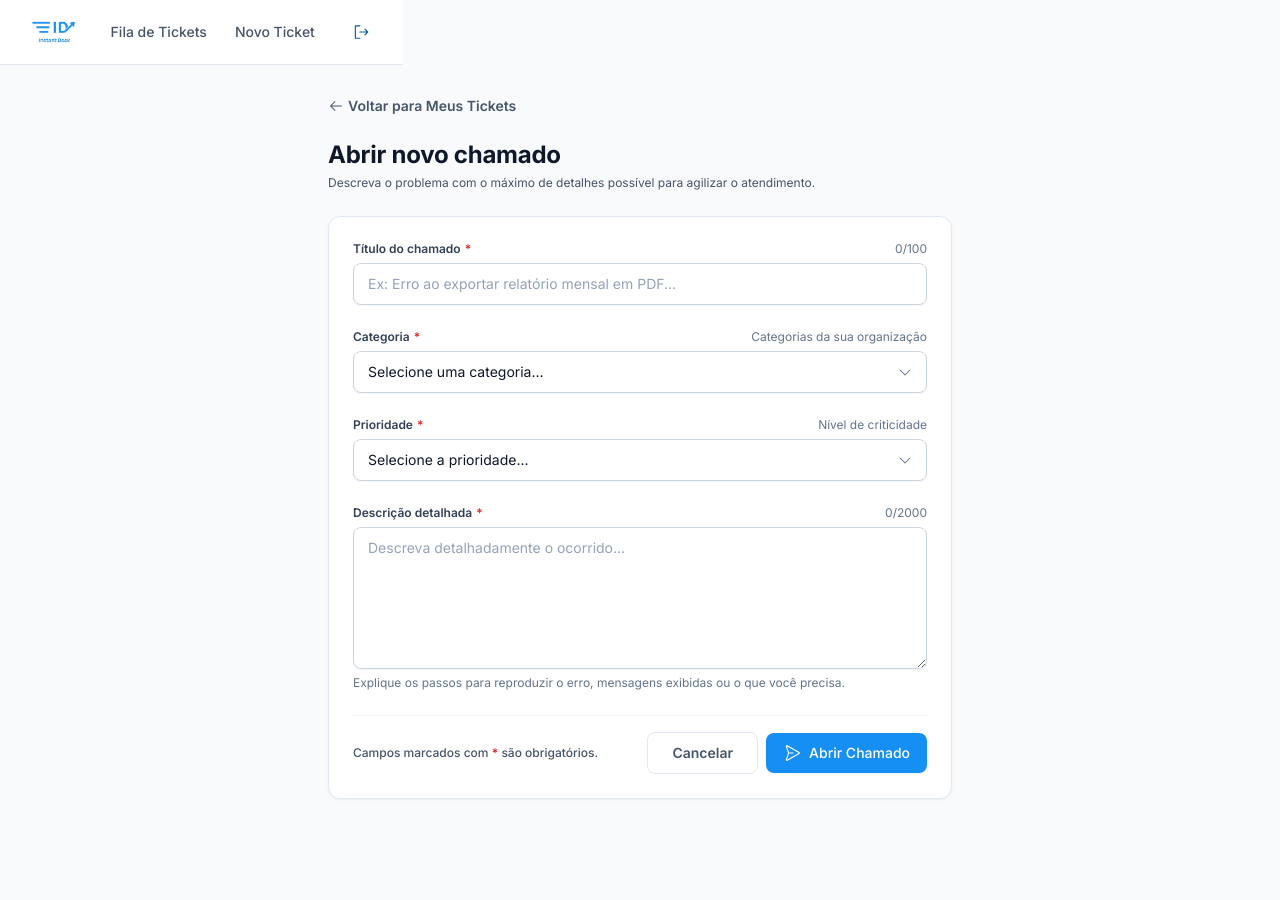
Test: NewTicket catalog states › does not submit category or priority IDs absent from the loaded lists
The width and height of the screenshot is (1280, 900).
Type "Não consigo acessar" into the field labelled "Título do chamado*" at (640, 284), box 353,263 -> 927,305
Select "Acesso" in the dropdown labelled "Categoria" at (640, 372), box 353,351 -> 927,393
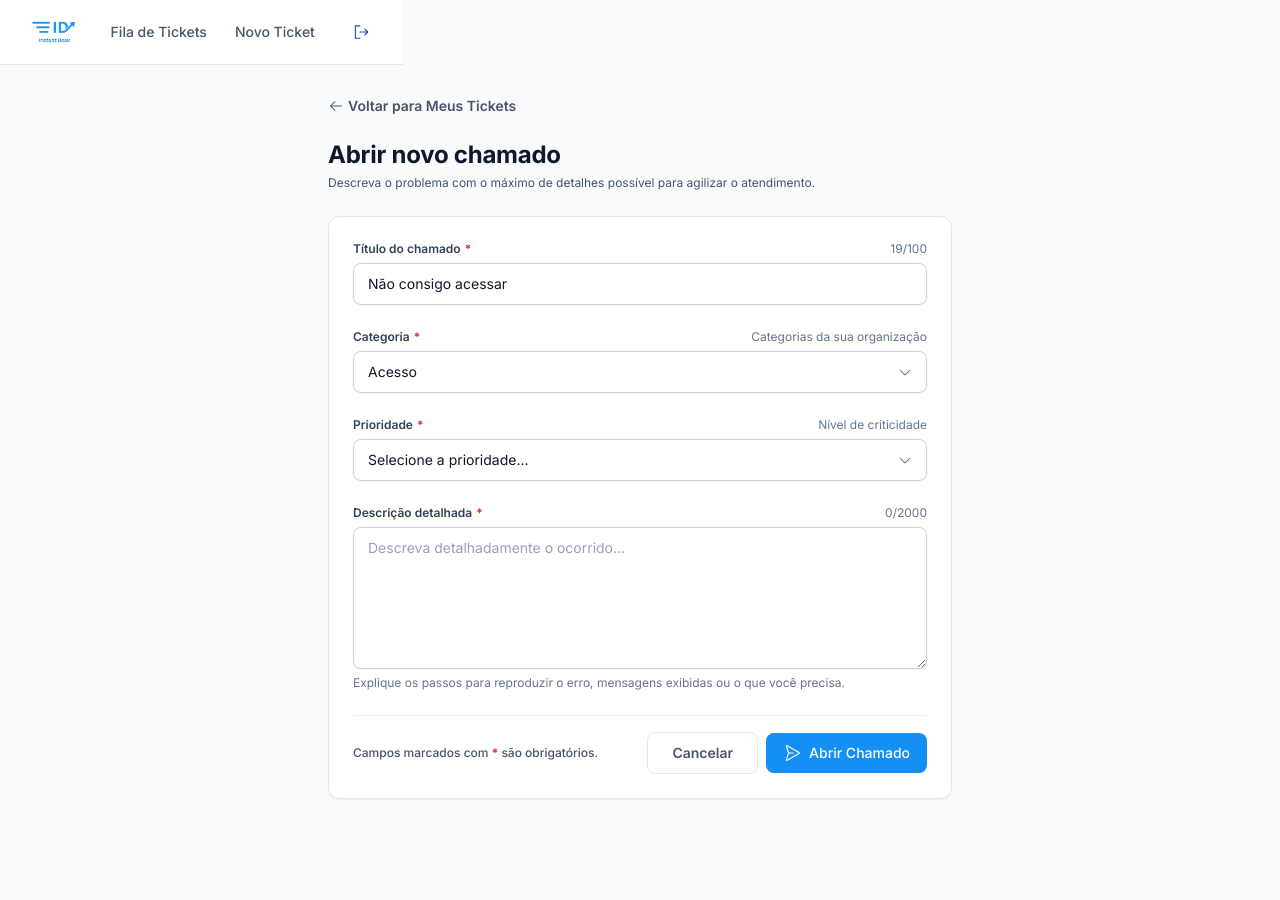
Select "Alta" in the dropdown labelled "Prioridade" at (640, 460), box 353,439 -> 927,481
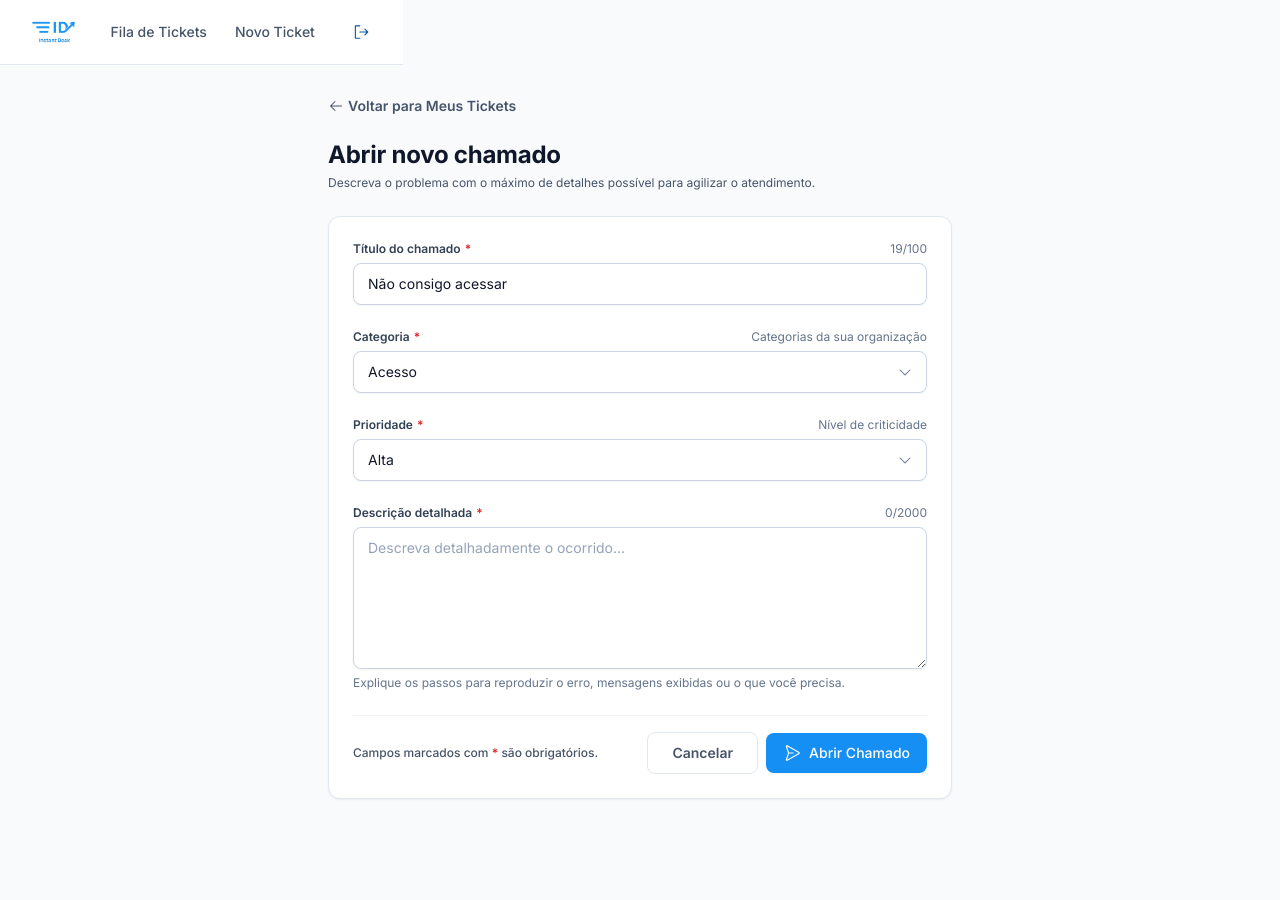
Type "O acesso ao sistema falha desde hoje." into the text box labelled "Descrição detalhada*" at (640, 598), box 353,527 -> 927,669
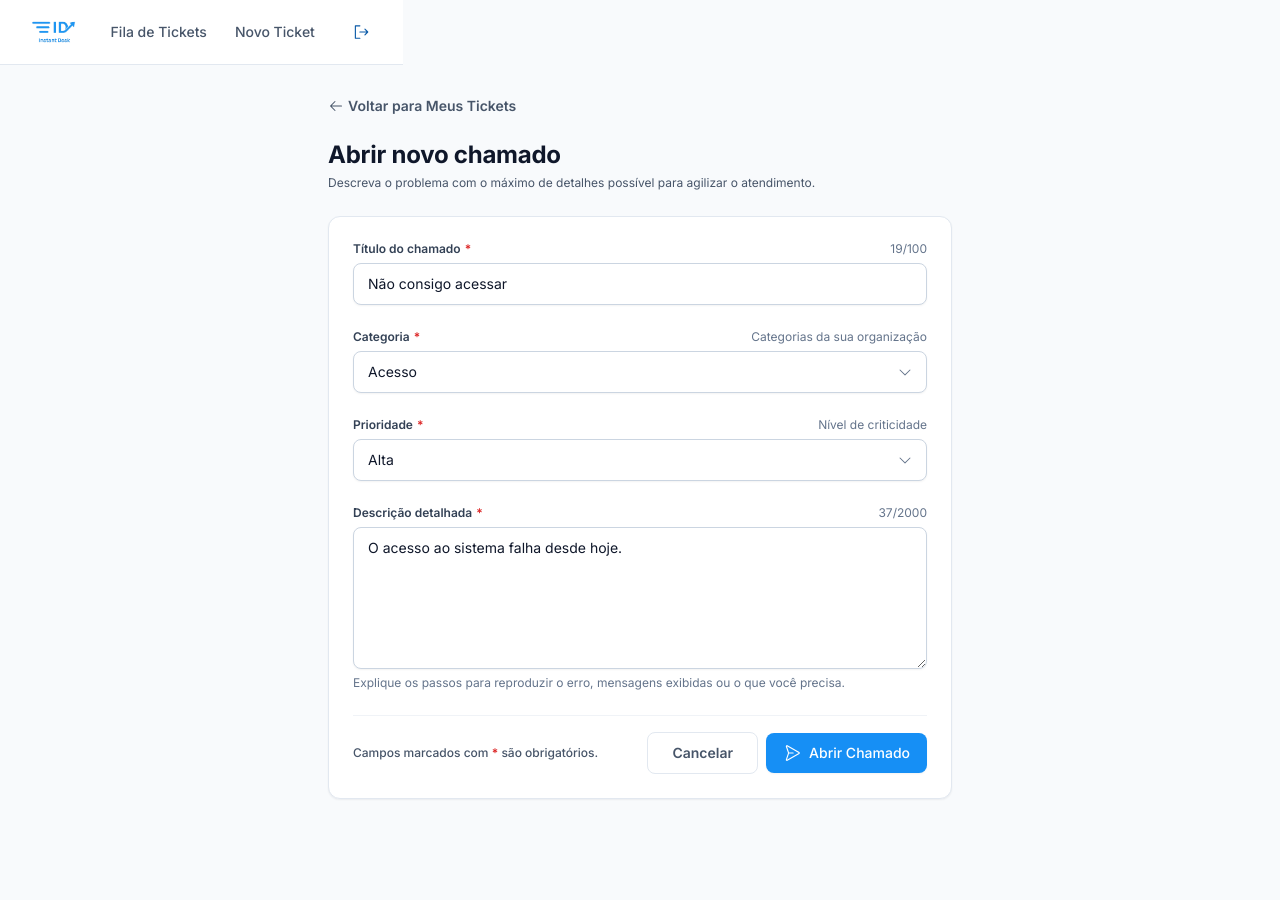
Select "999" in the dropdown labelled "Categoria" at (640, 372), box 353,351 -> 927,393
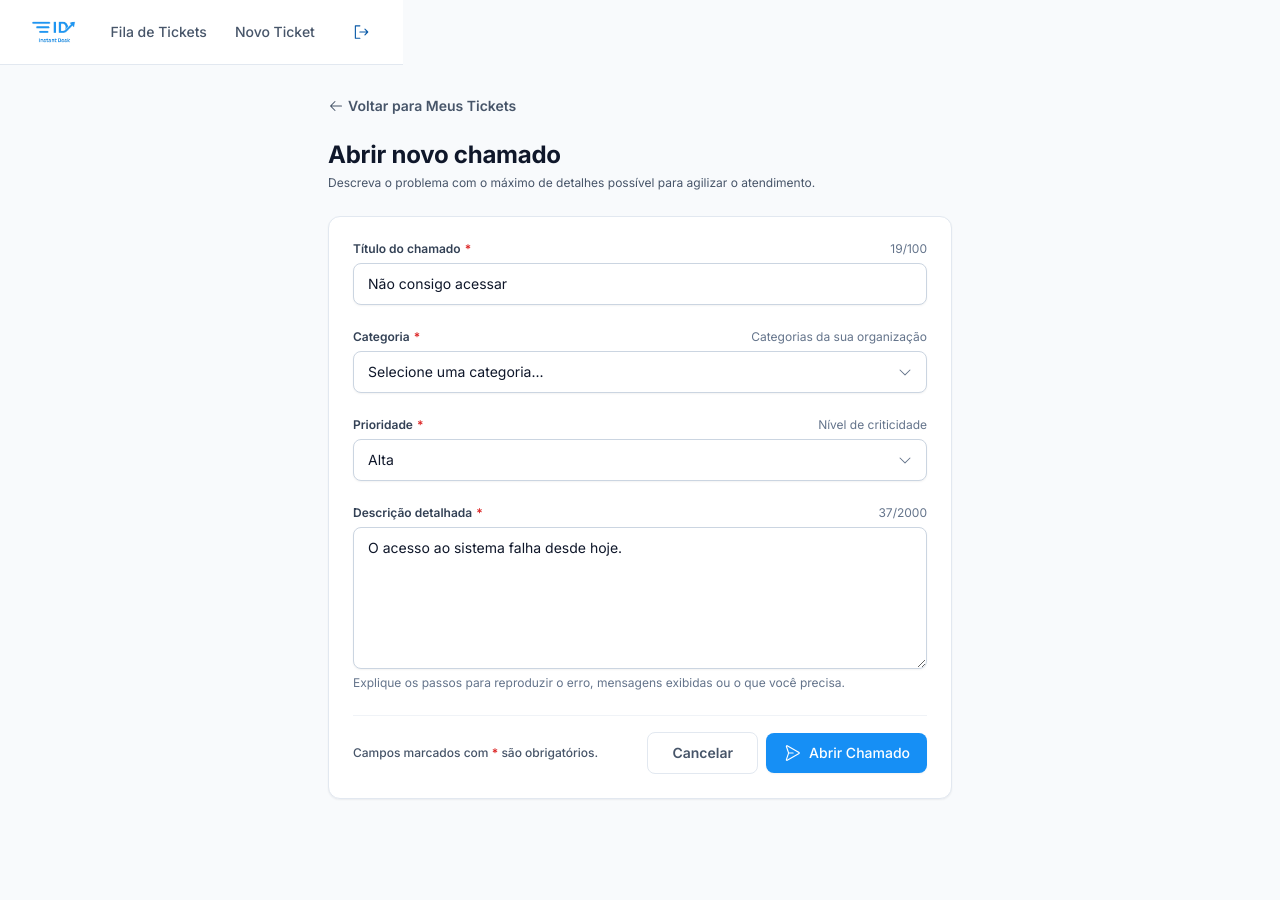
Select "888" in the dropdown labelled "Prioridade" at (640, 460), box 353,439 -> 927,481
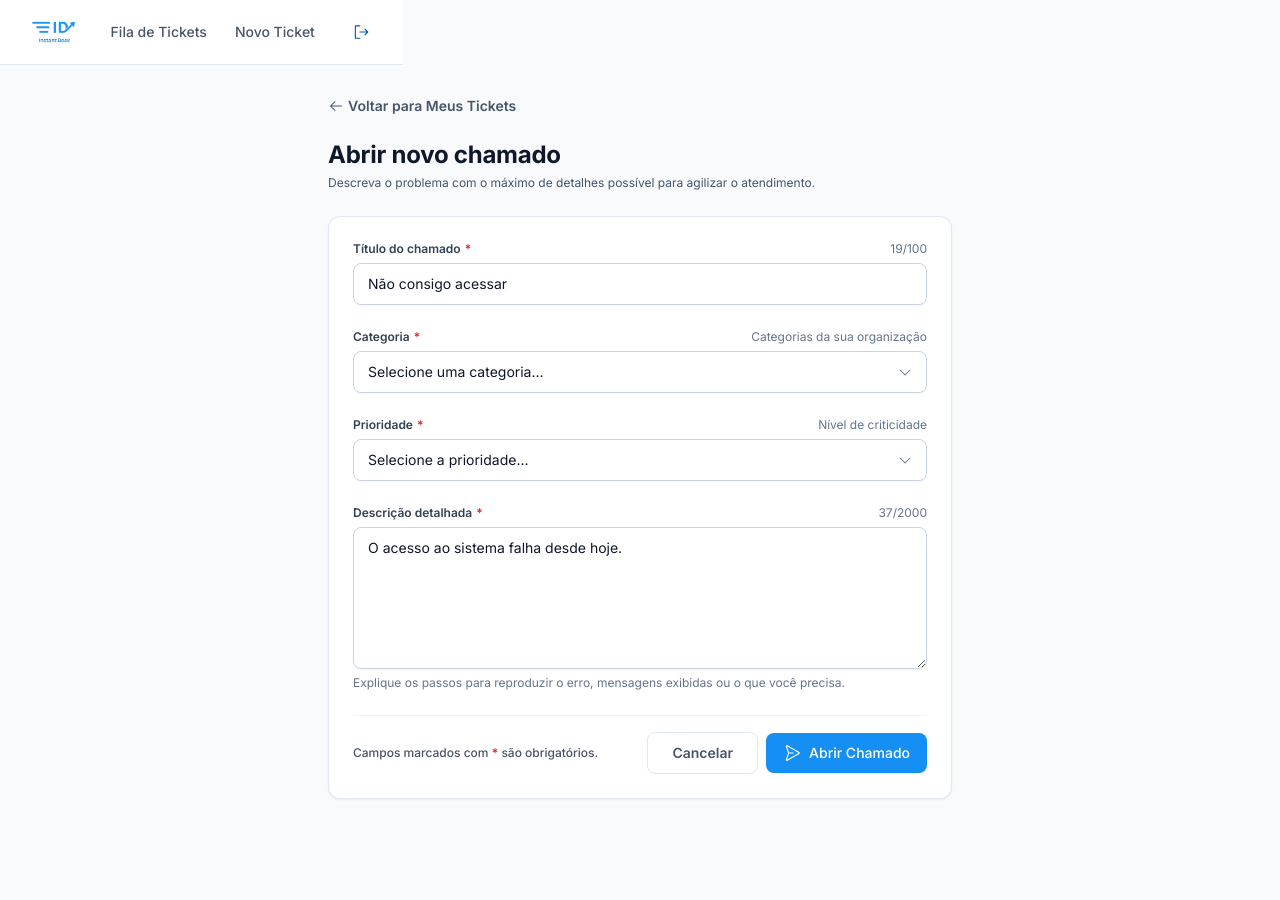
Submit the form named "Abrir Chamado", box 353,241 -> 927,774
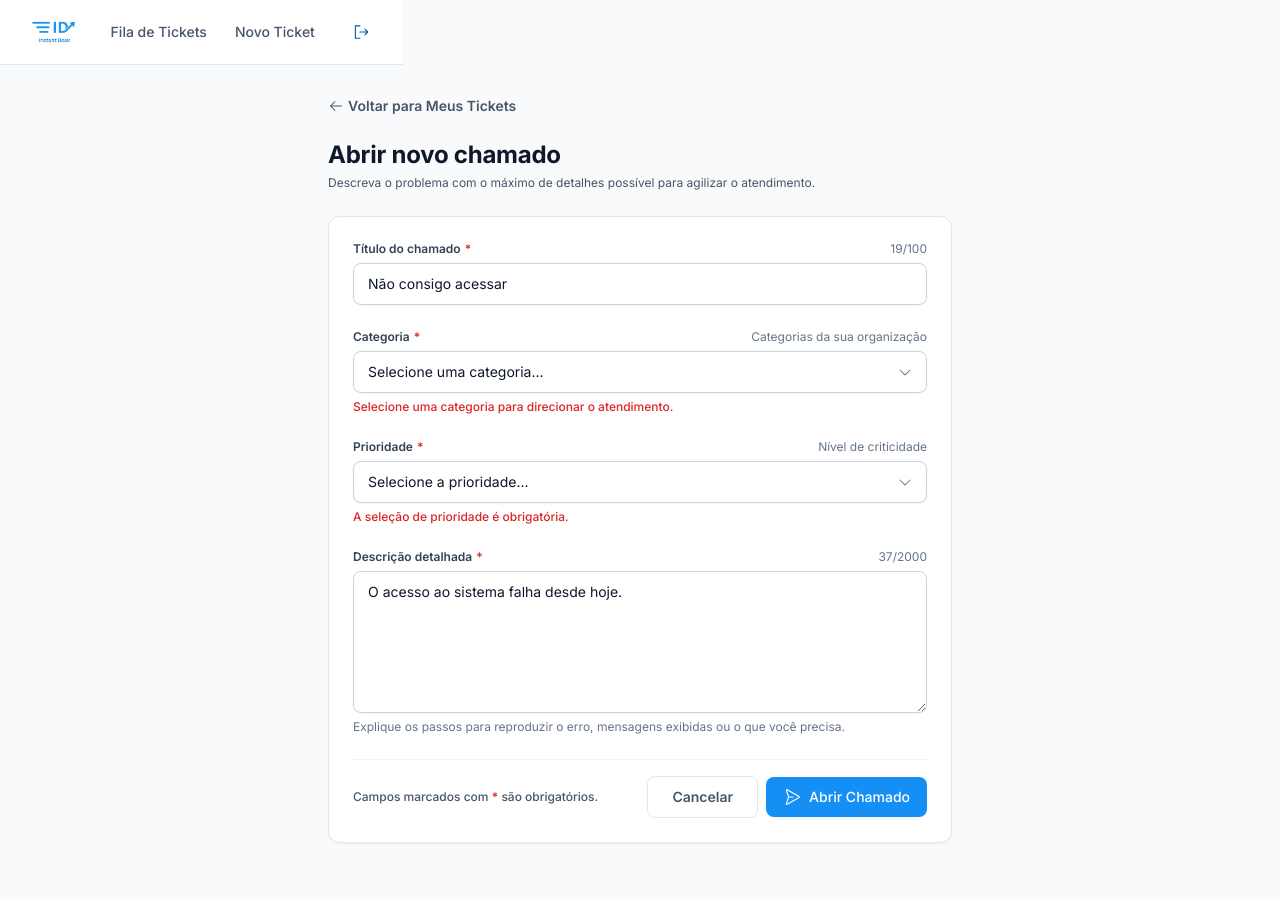
Result: the text "Selecione uma categoria para direcionar o atendimento." is shown at 353,399 -> 673,414
Result: the text "A seleção de prioridade é obrigatória." is shown at 353,509 -> 569,524
